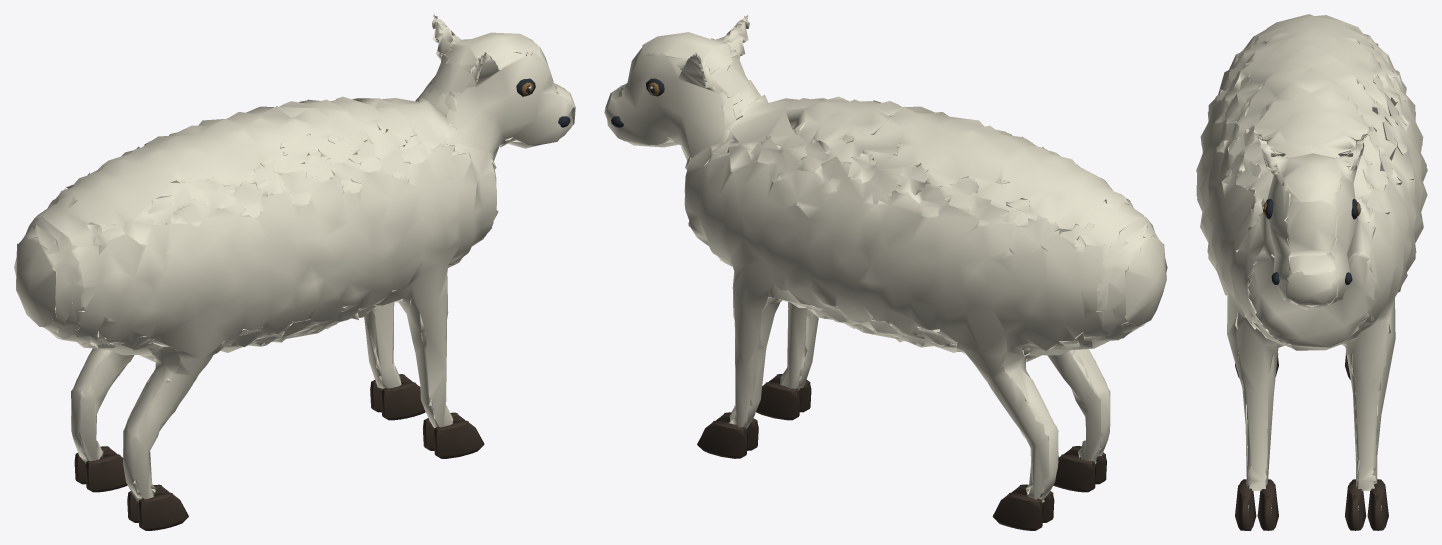
The model's file is sheep.glb.
3 renders of one model, left to right at view 1: azimuth 30°, elevation 25°; view 2: azimuth 150°, elevation 25°; view 3: azimuth 270°, elevation 25°, orthographic. The views are drawn at different scales.
Parts seen in each view (by area): view 1: Cloven tapered hoof; view 2: Cloven tapered hoof; view 3: Cloven tapered hoof.
Boxes of the visible parts, x1,y1,x2,y2 form: Cloven tapered hoof: [14, 14, 575, 530]; Cloven tapered hoof: [604, 15, 1167, 530]; Cloven tapered hoof: [1196, 14, 1427, 530].
Size of the model in its own units: 1.27 by 0.8506 by 0.4404.
Materials: 5 (5 with a texture image).
